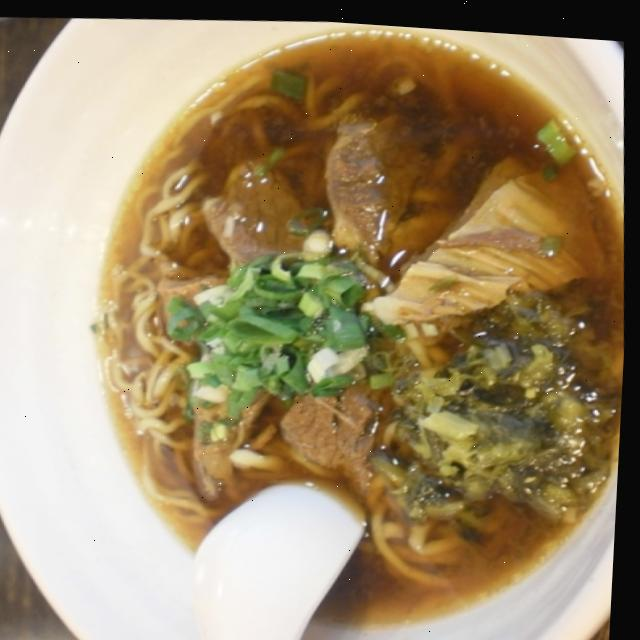面条主食: (84, 11, 640, 611)
